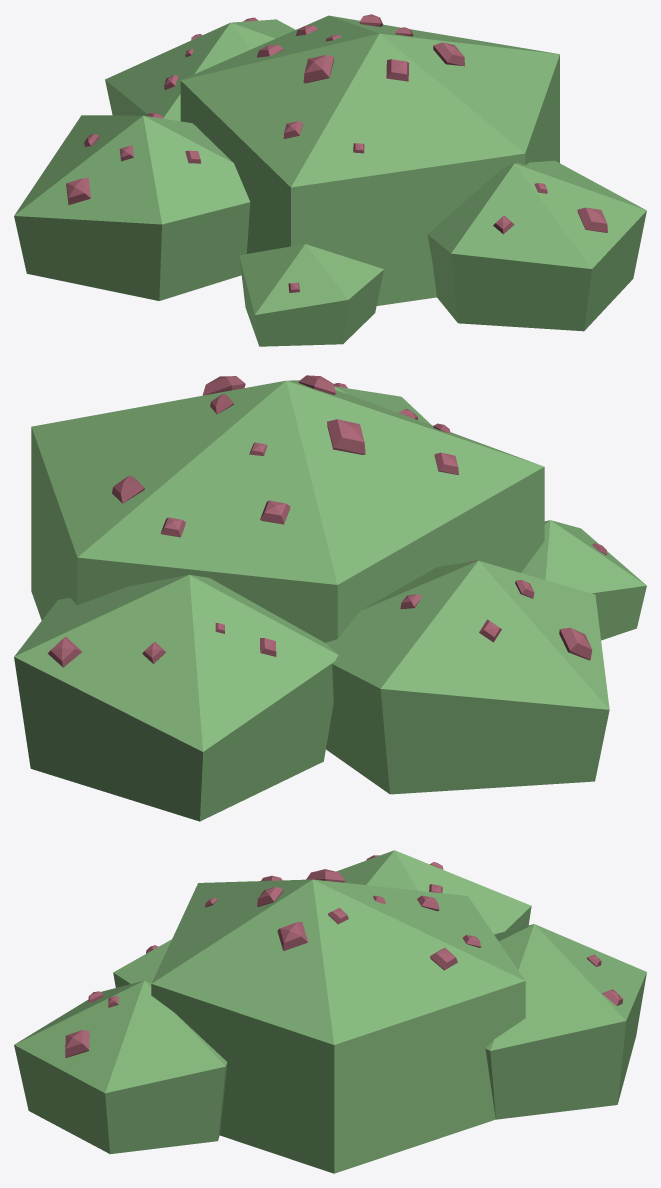
The model's file is Arbusto.fbx.
The picture shows the model from 3 angles, top to bottom: view 1: azimuth 30°, elevation 25°; view 2: azimuth 150°, elevation 25°; view 3: azimuth 270°, elevation 25°; orthographic projection. The views are drawn at different scales.
Parts seen in each view (by area): view 1: pSphere1, pSphere2, pSphere4, pSphere3, pSphere5, Bagas; view 2: pSphere1, pSphere5, pSphere2, Bagas, pSphere3, pSphere4; view 3: pSphere1, pSphere4, pSphere5, pSphere2, Bagas, pSphere3.
Boxes of the visible parts, box(x1,y1,x2,y2) form: pSphere1: box(180, 15, 559, 305); pSphere2: box(14, 115, 250, 300); pSphere4: box(427, 160, 646, 331); pSphere3: box(239, 244, 383, 346); pSphere5: box(105, 19, 295, 121); Bagas: box(66, 14, 607, 292); pSphere1: box(31, 380, 544, 642); pSphere5: box(14, 574, 338, 821); pSphere2: box(325, 560, 609, 794); Bagas: box(47, 375, 607, 667); pSphere3: box(521, 520, 646, 640); pSphere4: box(334, 386, 431, 424); pSphere1: box(151, 879, 525, 1173); pSphere4: box(14, 980, 227, 1154); pSphere5: box(485, 924, 646, 1119); pSphere2: box(336, 850, 531, 934); Bagas: box(65, 855, 622, 1057); pSphere3: box(113, 939, 171, 987).
Size of the model in its own units: 2.45 by 0.9621 by 2.72.
